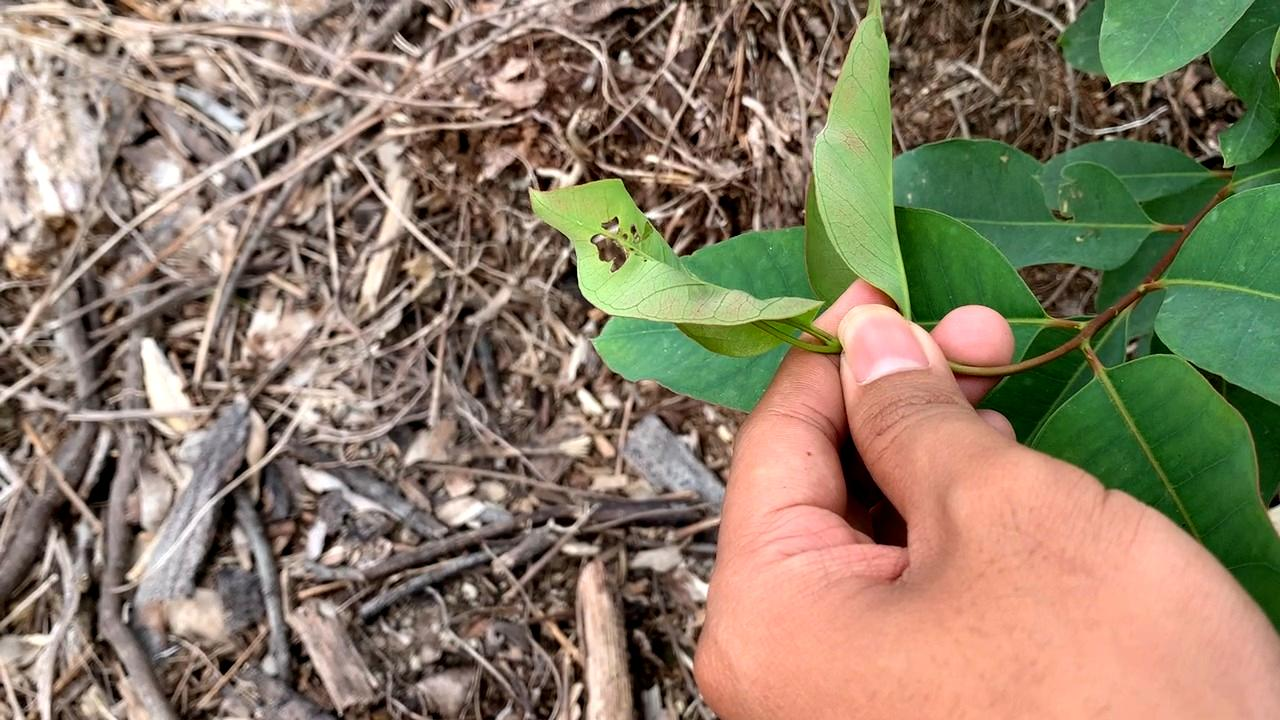Leaf Roller - Leaf: (499, 177, 834, 385)
